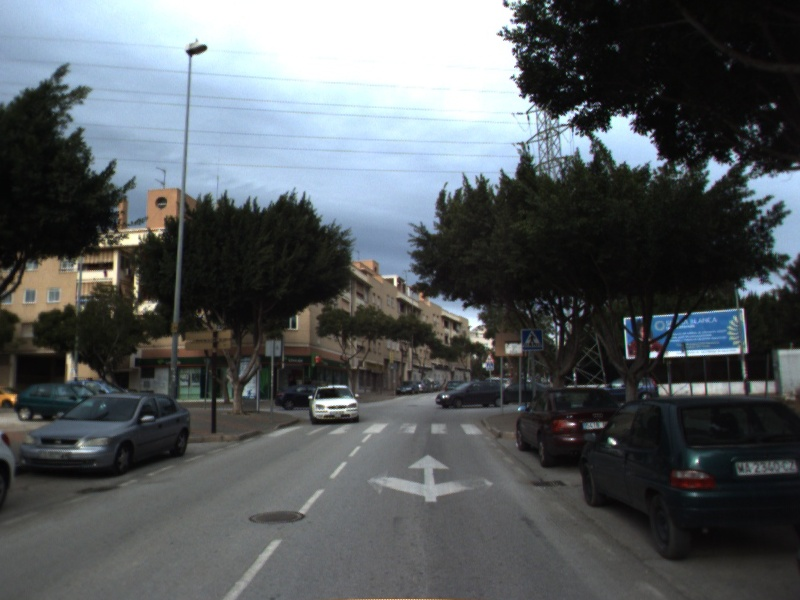STRAIGHT_LEFT_RIGHT: (364, 452, 496, 504)
